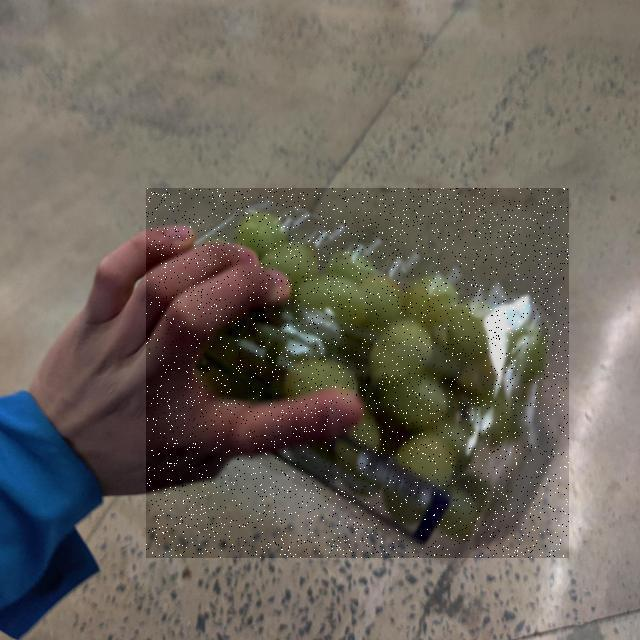Grapes: (146, 188, 569, 558)
